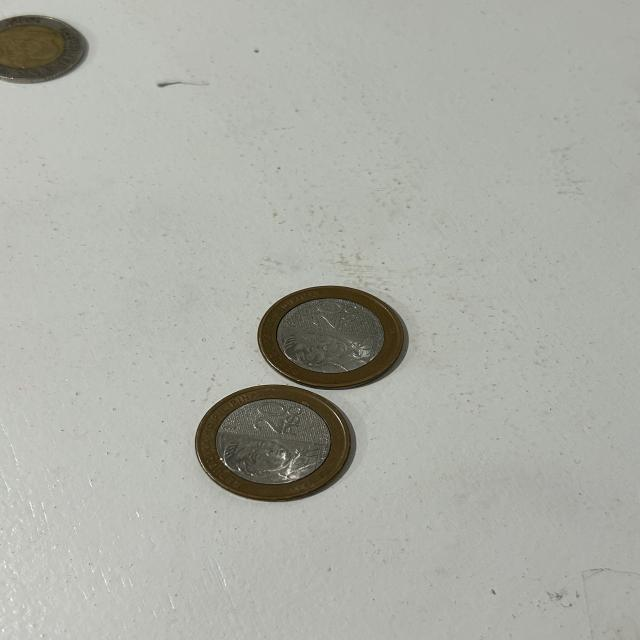20_New_Front: (248, 401, 318, 442), (312, 299, 363, 332)
